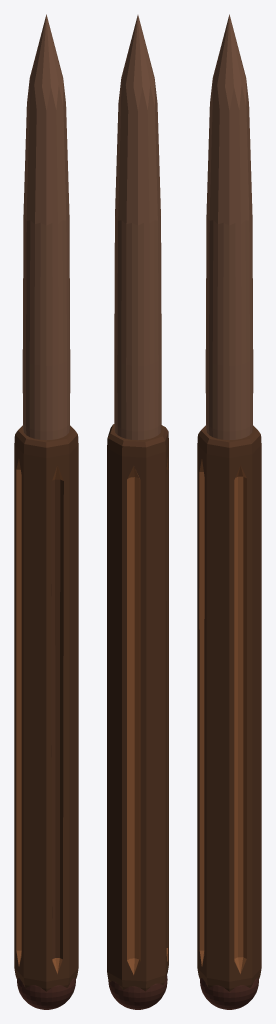
The model's file is Wand 503.glb.
3 views of the same model, side by side, from view 1: azimuth 90°, elevation 25°; view 2: azimuth 150°, elevation 25°; view 3: azimuth 270°, elevation 25° (orthographic).
Visible parts, largest first — view 1: GeneratedWand; view 2: GeneratedWand; view 3: GeneratedWand.
Boxes of the visible parts, x1=… form: GeneratedWand: x1=14, y1=14, x2=78, y2=1009; GeneratedWand: x1=107, y1=15, x2=168, y2=1009; GeneratedWand: x1=197, y1=14, x2=261, y2=1009.
Size of the model in its own units: 0.0289 by 0.4938 by 0.0289.
